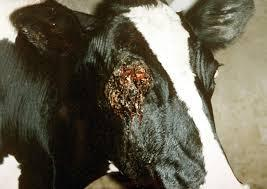infection: (99, 48, 162, 143)
